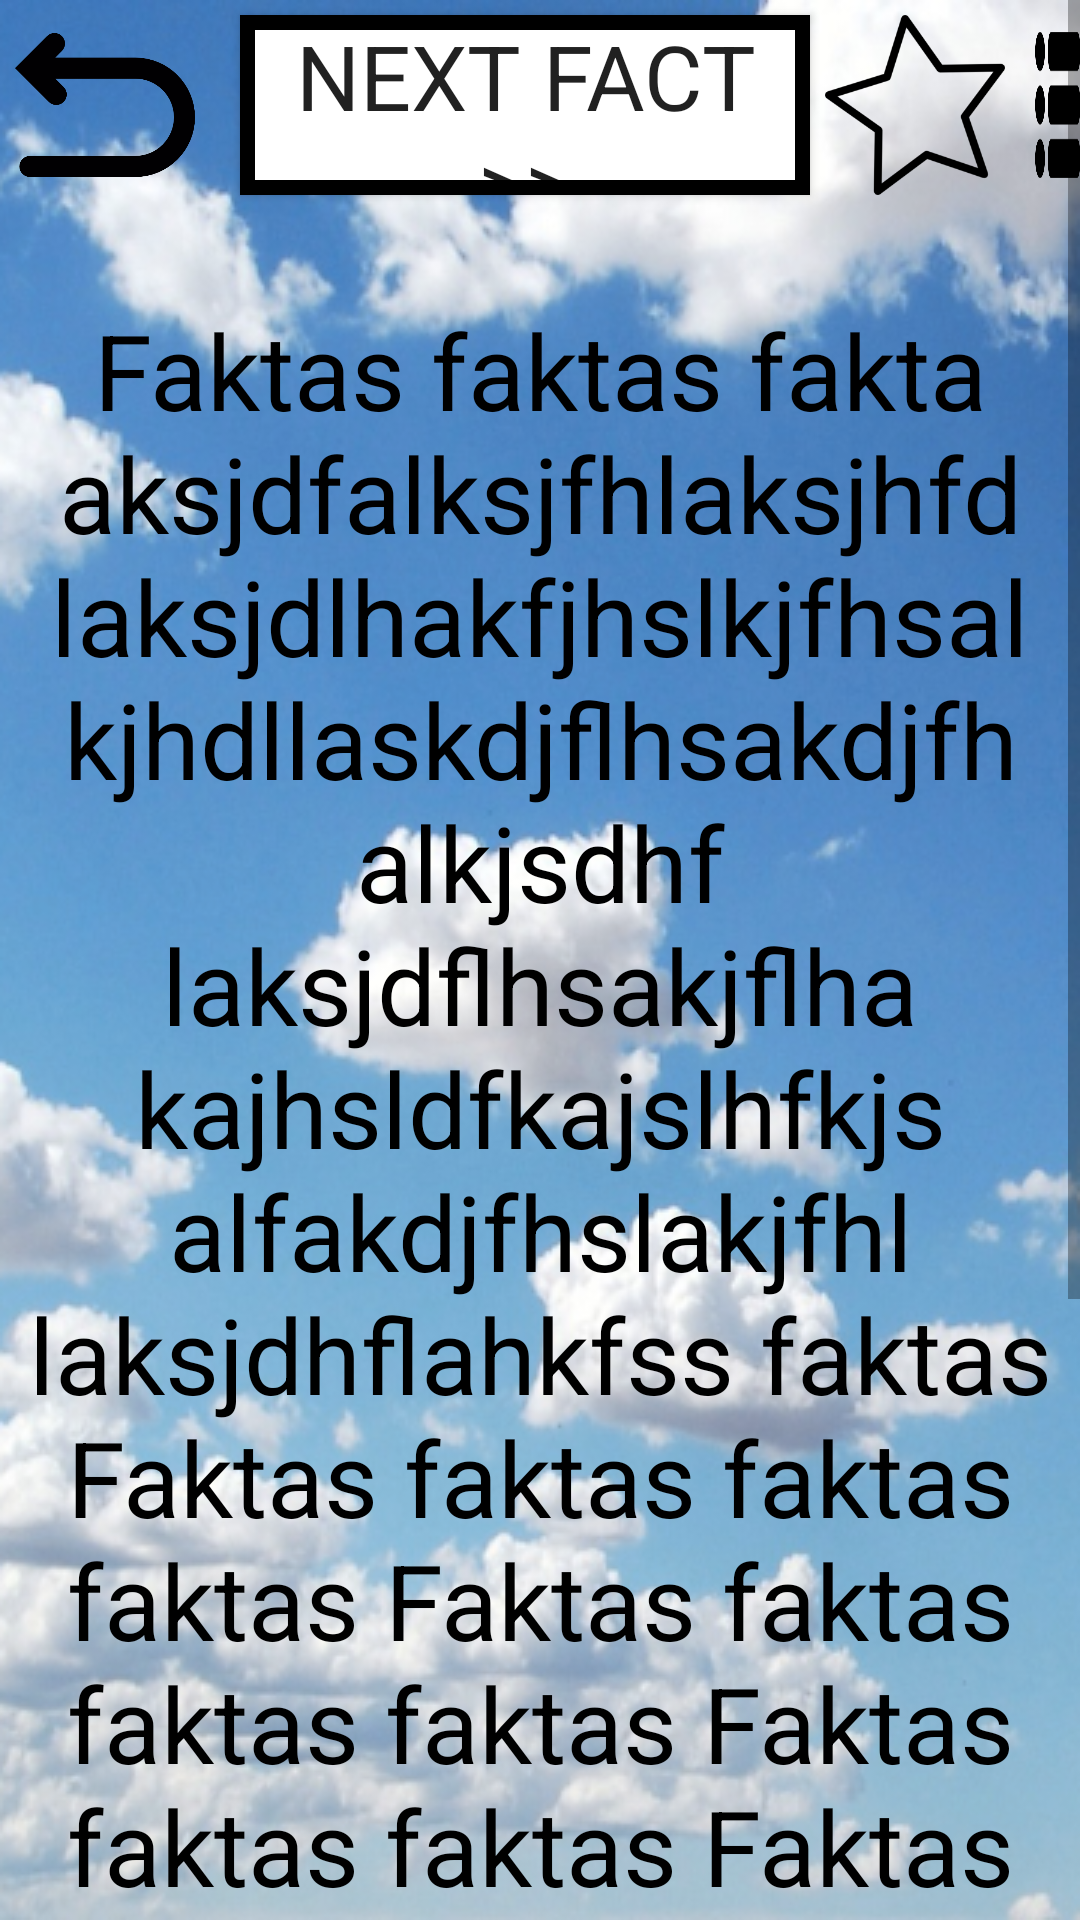

Where to tap for icons on this 1080px x 1920px app screen, as (x=x, y=y):
Favourites: (x=915, y=105)
Menu button: (x=1057, y=105)
Return button image: (x=105, y=114)
